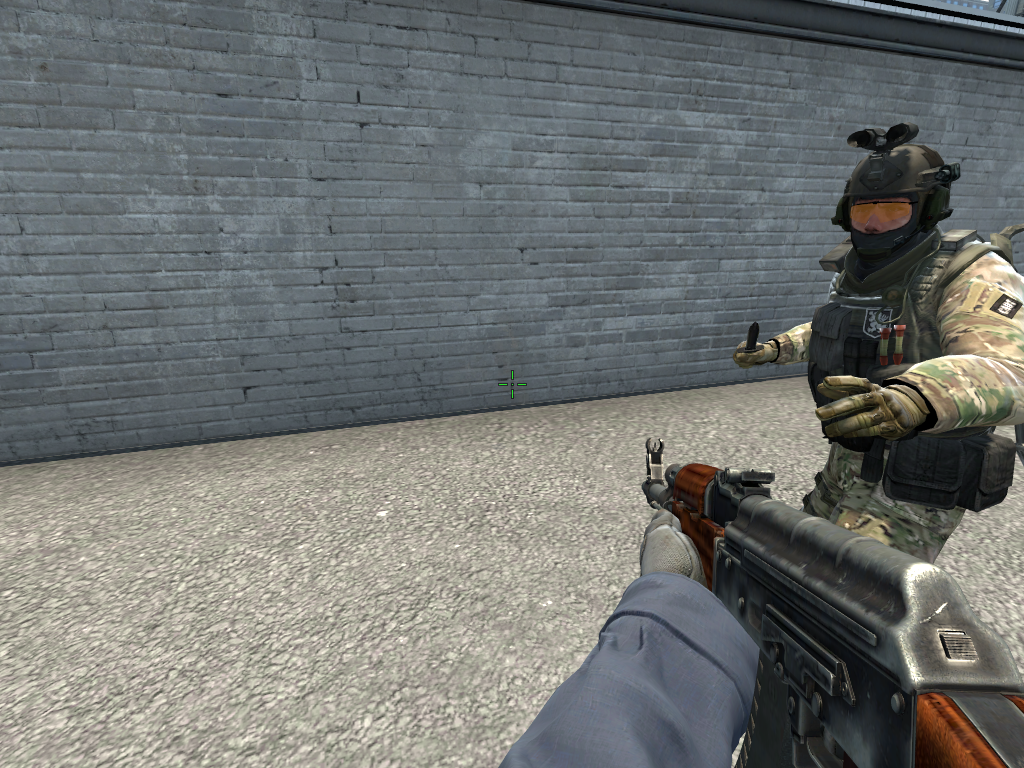ct head: (831, 139, 956, 267)
